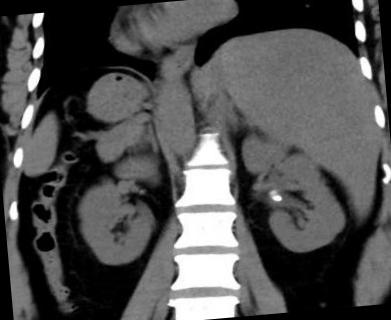Tas_Var: (268, 194, 284, 203), (267, 190, 278, 196)
